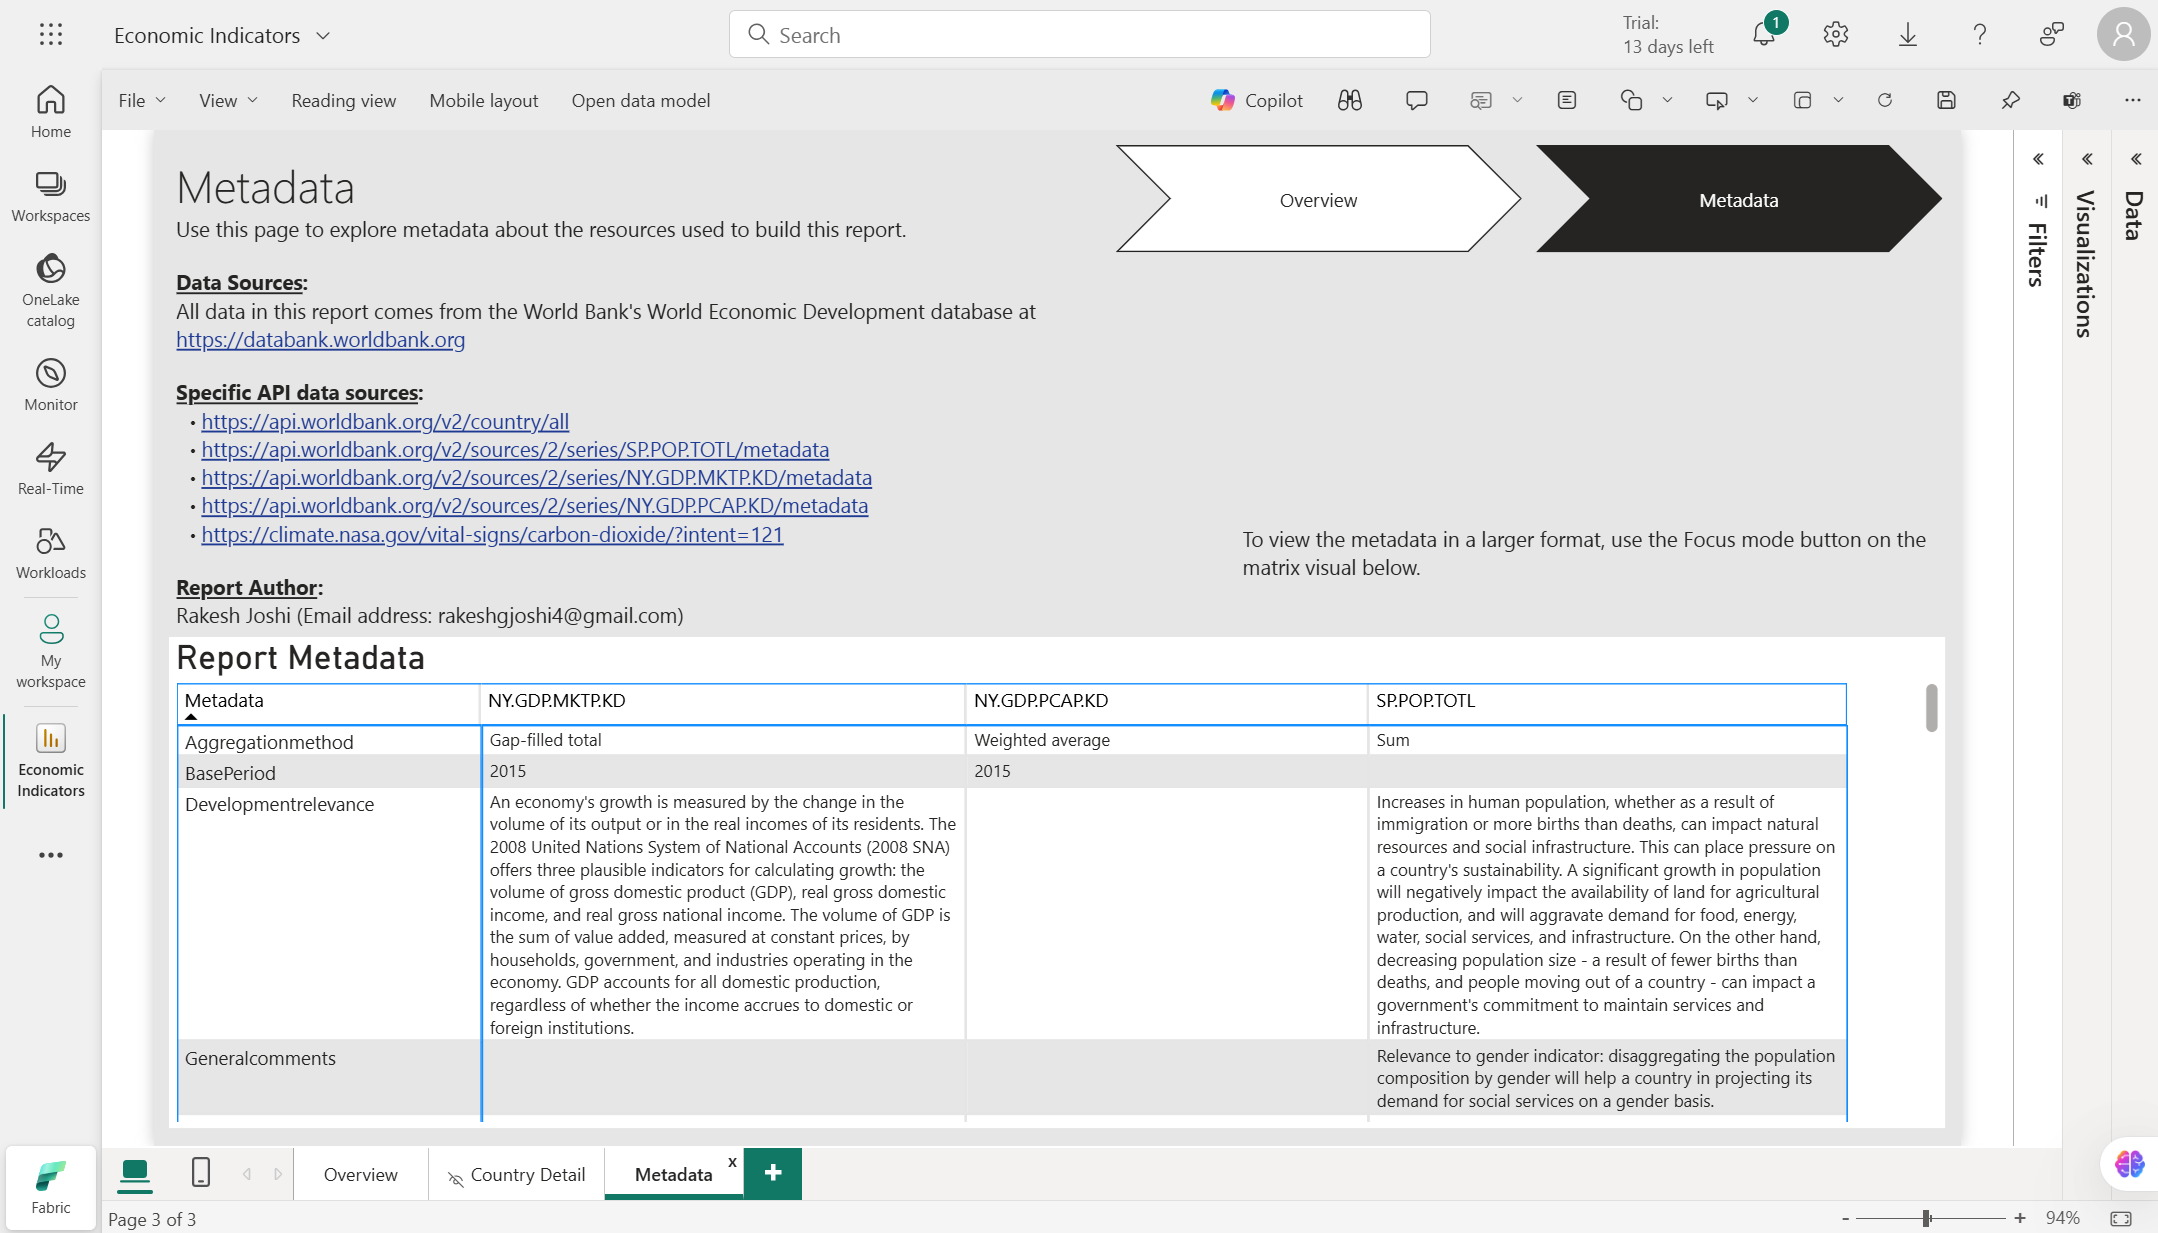

The dashboard page shown, as its layout file describes it:
{"tool":"powerbi","page":{"name":"Metadata","canvas":[1280,720],"ordinal":2},"visuals":[{"type":"pivotTable","title":"Report Metadata","fields":{"Rows":["Metadata.Metadata"],"Columns":["Metadata.Series"],"Values":["Min(Metadata.Metadata Value)"]},"box":[10.4,359.7,1258.8,348.2],"z":0},{"type":"pageNavigator","box":[681.1,11.1,587.8,76.7],"z":1000},{"type":"textbox","box":[10,11.1,649.3,348.5],"z":2000},{"type":"textbox","box":[766.7,274.4,502.2,53.3],"z":3000}]}

Visuals, with their boxes on the page's 1280x720 design canvas (x1, y1, x2, y2). These are canvas units, not pixel positions in the 2158x1233 screenshot, which may show the page scaled, cropped or inside an application window:
"Report Metadata" pivotTable: <region>10, 360, 1269, 708</region>
pageNavigator: <region>681, 11, 1269, 88</region>
textbox: <region>10, 11, 659, 360</region>
textbox: <region>767, 274, 1269, 328</region>
